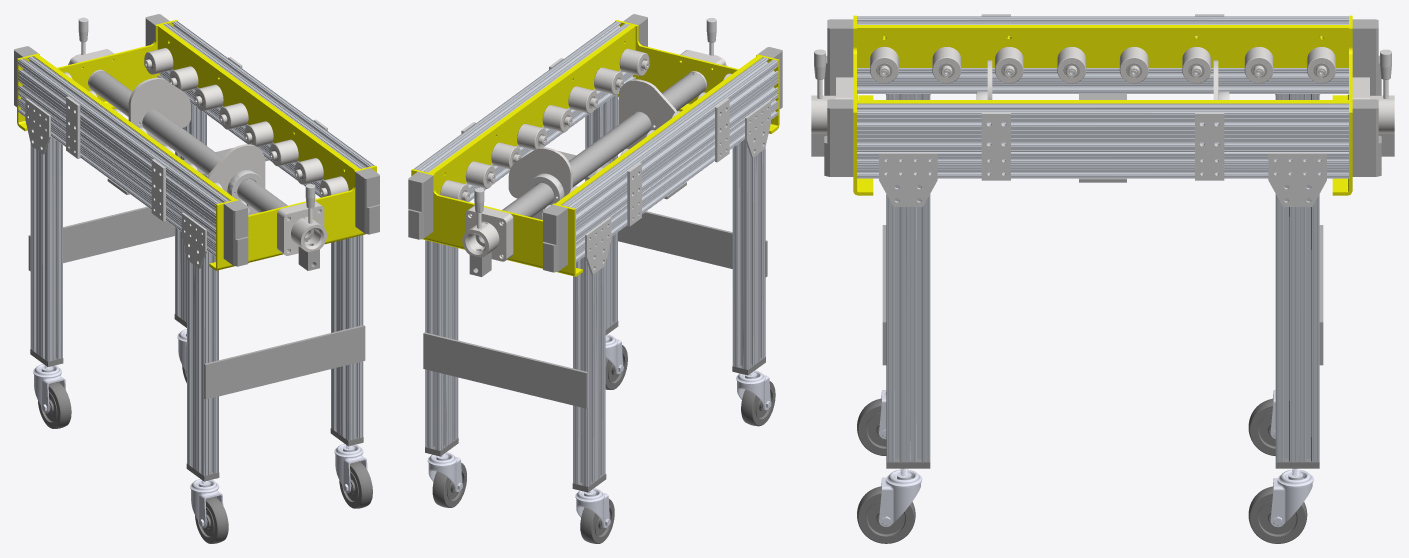
The model's file is conveyor-cart.glb.
The picture shows the model from 3 angles, left to right: view 1: azimuth 30°, elevation 25°; view 2: azimuth 150°, elevation 25°; view 3: azimuth 270°, elevation 25°; orthographic projection. The views are drawn at different scales.
Visible parts, largest first — view 1: 47065T604_T-Slotted Framing (4 Legs & 2 Horizontal Top)-9, 47065T604_T-Slotted Framing (4 Legs & 2 Horizontal Top)-7, 47065T604_T-Slotted Framing (4 Legs & 2 Horizontal Top)-5, CrossBeam-2, Roller Mount-1, 47065T604_T-Slotted Framing (4 Legs & 2 Horizontal Top)-3, Copy of Assem3^Shaft to Rotate_Assembly Updated-1/Shaft-1, Front Plate-2, Shell-1 (×7), Copy of Assem3^Shaft to Rotate_Assembly Updated-1/Locking pr (×2), CrossBeam-3, 47065T604_T-Slotted Framing (4 Legs & 2 Horizontal Top)-8 (+16 smaller); view 2: 47065T604_T-Slotted Framing (4 Legs & 2 Horizontal Top)-9, 47065T604_T-Slotted Framing (4 Legs & 2 Horizontal Top)-5, 47065T604_T-Slotted Framing (4 Legs & 2 Horizontal Top)-7, CrossBeam-3, Roller Mount-1, 47065T604_T-Slotted Framing (4 Legs & 2 Horizontal Top)-6, Copy of Assem3^Shaft to Rotate_Assembly Updated-1/Shaft-1, Front Plate-3, Shell-1 (×7), Copy of Assem3^Shaft to Rotate_Assembly Updated-1/Locking pr (×2), CrossBeam-2, 47065T604_T-Slotted Framing (4 Legs & 2 Horizontal Top)-8 (+17 smaller); view 3: 47065T604_T-Slotted Framing (4 Legs & 2 Horizontal Top)-8, Roller Mount-4, 47065T604_T-Slotted Framing (4 Legs & 2 Horizontal Top)-6, 47065T604_T-Slotted Framing (4 Legs & 2 Horizontal Top)-3, 47065T856_T-Slotted Framing Horizontal (2 Top 2 Bottom)-2, 47065T856_T-Slotted Framing Horizontal (2 Top 2 Bottom)-1, Shell-1 (×8), 47065T604_T-Slotted Framing (4 Legs & 2 Horizontal Top)-9, 2460T52_Threaded-Stem Swivel Caster-3, 2460T52_Threaded-Stem Swivel Caster-1, Connecting Bracket- Legs to Top-1, Connecting Bracket- Legs to Top-3 (+14 smaller).
Part boxes in pixels (x1,y1,x2,y2): 47065T604_T-Slotted Framing (4 Legs & 2 Horizontal Top)-9: (18, 56, 230, 235); 47065T604_T-Slotted Framing (4 Legs & 2 Horizontal Top)-7: (30, 136, 62, 361); 47065T604_T-Slotted Framing (4 Legs & 2 Horizontal Top)-5: (187, 250, 218, 475); CrossBeam-2: (204, 325, 365, 399); Roller Mount-1: (157, 24, 359, 190); 47065T604_T-Slotted Framing (4 Legs & 2 Horizontal Top)-3: (331, 235, 363, 440); Copy of Assem3^Shaft to Rotate_Assembly Updated-1/Shaft-1: (89, 71, 287, 212); Front Plate-2: (209, 165, 376, 270); Shell-1 (×7): (144, 48, 323, 184); Copy of Assem3^Shaft to Rotate_Assembly Updated-1/Locking pr (×2): (128, 77, 265, 214); CrossBeam-3: (28, 206, 174, 271); 47065T604_T-Slotted Framing (4 Legs & 2 Horizontal Top)-8: (163, 21, 374, 168); 47065T604_T-Slotted Framing (4 Legs & 2 Horizontal Top)-9: (561, 57, 778, 240); 47065T604_T-Slotted Framing (4 Legs & 2 Horizontal Top)-5: (732, 139, 765, 369); 47065T604_T-Slotted Framing (4 Legs & 2 Horizontal Top)-7: (573, 256, 605, 486); CrossBeam-3: (423, 332, 587, 408); Roller Mount-1: (429, 25, 635, 194); 47065T604_T-Slotted Framing (4 Legs & 2 Horizontal Top)-6: (425, 240, 458, 450); Copy of Assem3^Shaft to Rotate_Assembly Updated-1/Shaft-1: (502, 72, 705, 217); Front Plate-3: (411, 169, 582, 276); Shell-1 (×7): (465, 48, 649, 188); Copy of Assem3^Shaft to Rotate_Assembly Updated-1/Locking pr (×2): (508, 79, 676, 219); CrossBeam-2: (618, 211, 767, 276); 47065T604_T-Slotted Framing (4 Legs & 2 Horizontal Top)-8: (414, 21, 629, 172); 47065T604_T-Slotted Framing (4 Legs & 2 Horizontal Top)-8: (857, 103, 1348, 151); Roller Mount-4: (857, 25, 1348, 67); 47065T604_T-Slotted Framing (4 Legs & 2 Horizontal Top)-6: (1275, 184, 1319, 461); 47065T604_T-Slotted Framing (4 Legs & 2 Horizontal Top)-3: (886, 184, 930, 461); 47065T856_T-Slotted Framing Horizontal (2 Top 2 Bottom)-2: (857, 68, 1348, 93); 47065T856_T-Slotted Framing Horizontal (2 Top 2 Bottom)-1: (857, 152, 1348, 178); Shell-1 (×8): (870, 47, 1335, 83); 47065T604_T-Slotted Framing (4 Legs & 2 Horizontal Top)-9: (857, 16, 1348, 36); 2460T52_Threaded-Stem Swivel Caster-3: (857, 468, 922, 543); 2460T52_Threaded-Stem Swivel Caster-1: (1248, 468, 1313, 543); Connecting Bracket- Legs to Top-1: (879, 152, 937, 206); Connecting Bracket- Legs to Top-3: (1268, 152, 1326, 206).
Size of the model in its own units: 0.4214 by 0.8505 by 1.01.
10 materials, 1 textured.
